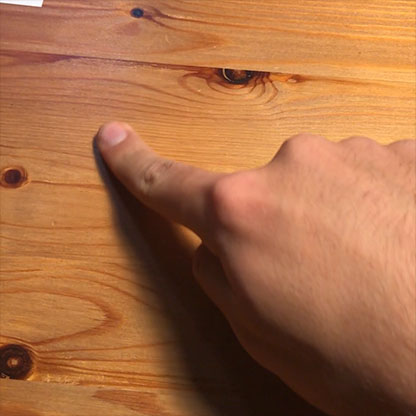fingertip: (87, 116, 139, 158)
